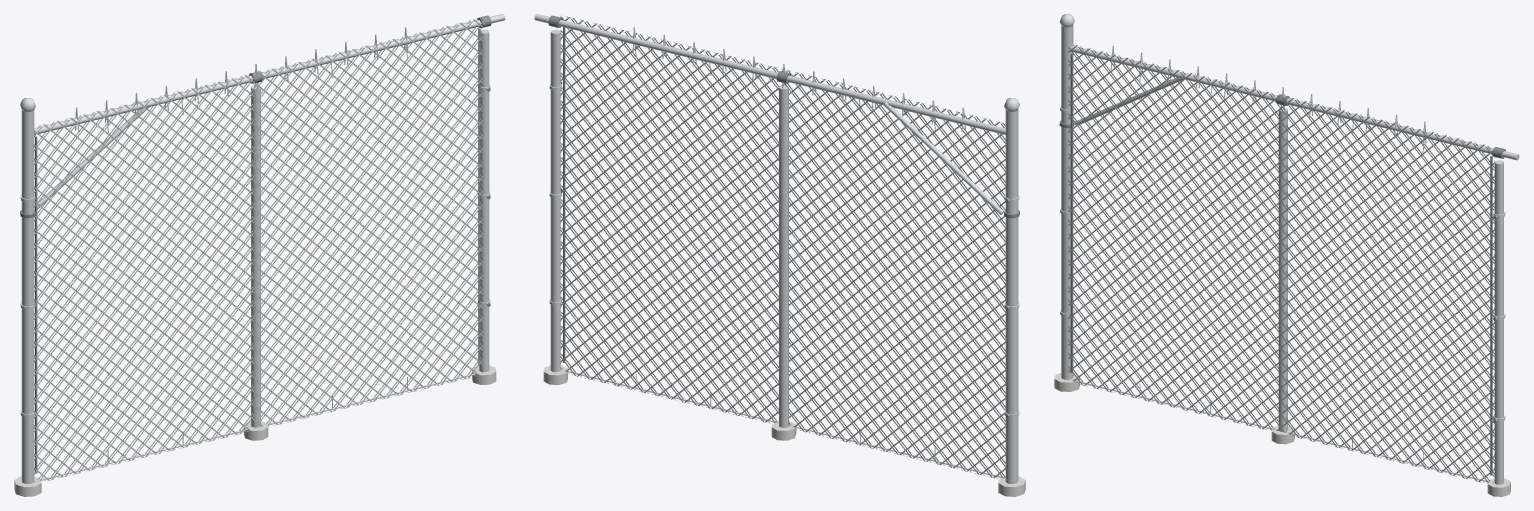
The model's file is Fence_ChainWeave.fbx.
The picture shows the model from 3 angles, left to right: view 1: azimuth 30°, elevation 25°; view 2: azimuth 150°, elevation 25°; view 3: azimuth 330°, elevation 25°; orthographic projection. The views are drawn at different scales.
Visible parts, largest first — view 1: LOD0; view 2: LOD0; view 3: LOD0.
Part boxes in pixels (bbox=[...]): LOD0: bbox=[14, 14, 505, 496]; LOD0: bbox=[534, 14, 1025, 496]; LOD0: bbox=[1054, 14, 1519, 496].
Size of what is drawn, in the model's own units: 261 by 201 by 13.
